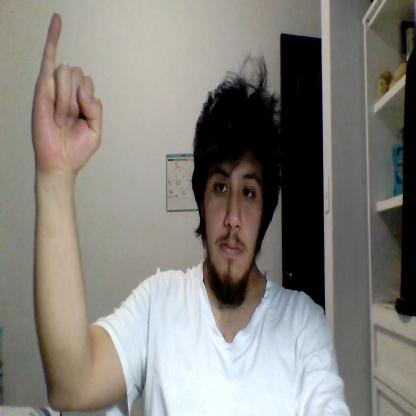I: (32, 11, 103, 169)
